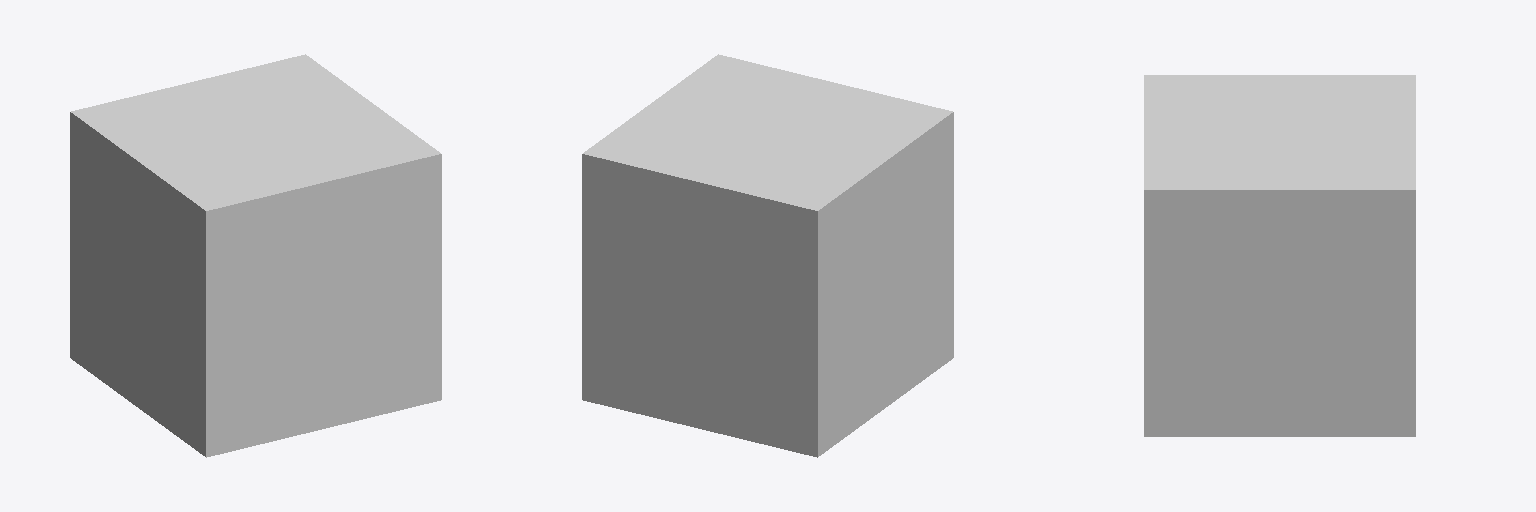
3 views of the same model, side by side, from view 1: azimuth 30°, elevation 25°; view 2: azimuth 150°, elevation 25°; view 3: azimuth 270°, elevation 25° (orthographic).
Visible parts, largest first — view 1: Cube; view 2: Cube; view 3: Cube.
Boxes of the visible parts, box(x1,y1,x2,y2) form: Cube: box(70, 54, 441, 457); Cube: box(582, 54, 953, 457); Cube: box(1144, 75, 1415, 436).
Size of the model in its own units: 2 by 2 by 2.
Materials: 1 (1 with a texture image).